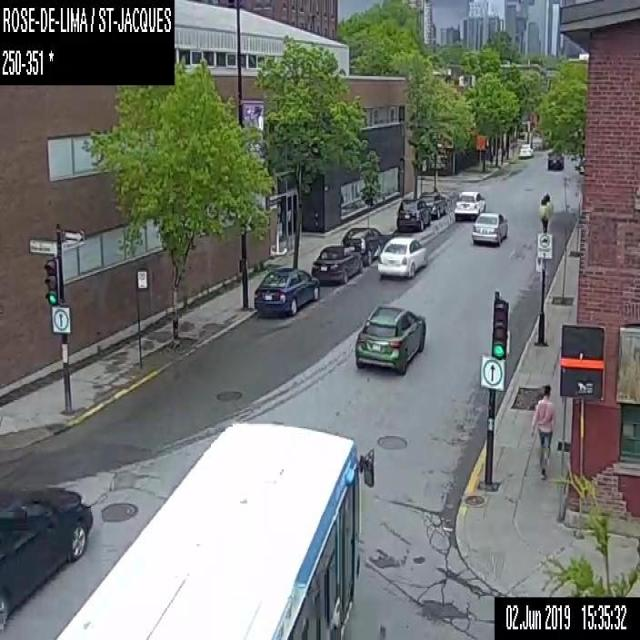bus: (53, 414, 375, 638)
construction: (474, 134, 486, 170)
pedestrian: (528, 380, 556, 480)
vehicle: (0, 478, 97, 638), (350, 299, 430, 376), (250, 266, 319, 317), (376, 235, 429, 276), (312, 244, 362, 284), (340, 226, 385, 262), (472, 210, 508, 242), (395, 197, 430, 229), (453, 190, 486, 217), (418, 192, 447, 217), (546, 149, 564, 170), (518, 142, 534, 158)
